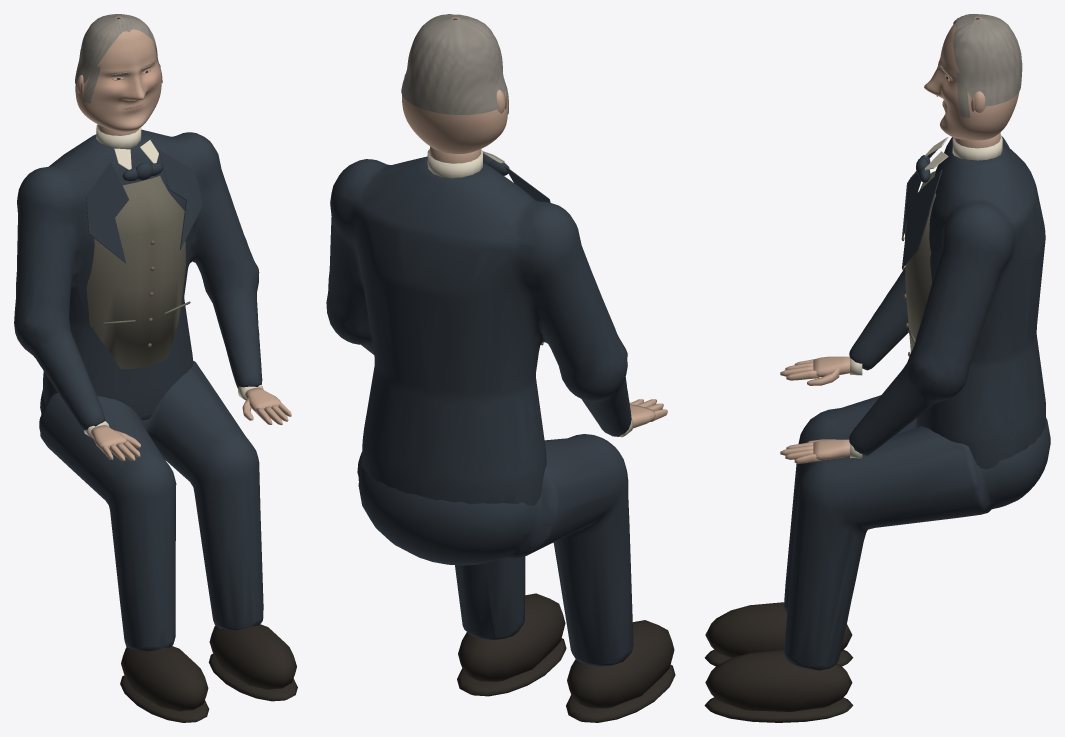
File: workhouse-characters.glb
The picture shows the model from 3 angles, left to right: view 1: azimuth 30°, elevation 25°; view 2: azimuth 150°, elevation 25°; view 3: azimuth 270°, elevation 25°; orthographic projection. The views are drawn at different scales.
Parts seen in each view (by area): view 1: steward_upper_Coat, steward_root_Coat, steward_upper_Waistcoat, steward_root_Boot, steward_head_Skin, steward_upper_Skin, steward_head_Hair, steward_upper_Shirt; view 2: steward_upper_Coat, steward_root_Coat, steward_root_Boot, steward_head_Hair, steward_head_Skin, steward_upper_Skin, steward_upper_Shirt; view 3: steward_upper_Coat, steward_root_Coat, steward_root_Boot, steward_head_Hair, steward_head_Skin, steward_upper_Skin, steward_upper_Waistcoat, steward_upper_Shirt.
Part boxes in pixels (<box>): steward_upper_Coat: <box>14,129,262,430</box>; steward_root_Coat: <box>39,360,263,651</box>; steward_upper_Waistcoat: <box>86,176,190,369</box>; steward_root_Boot: <box>120,624,297,722</box>; steward_head_Skin: <box>75,16,161,131</box>; steward_upper_Skin: <box>91,124,291,461</box>; steward_head_Hair: <box>75,14,162,103</box>; steward_upper_Shirt: <box>84,124,263,438</box>; steward_upper_Coat: <box>326,153,631,505</box>; steward_root_Coat: <box>357,434,633,666</box>; steward_root_Boot: <box>457,593,675,722</box>; steward_head_Hair: <box>401,14,508,114</box>; steward_head_Skin: <box>402,17,507,153</box>; steward_upper_Skin: <box>430,146,667,428</box>; steward_upper_Shirt: <box>427,149,633,437</box>; steward_upper_Coat: <box>849,136,1045,469</box>; steward_root_Coat: <box>784,395,1050,670</box>; steward_root_Boot: <box>704,602,853,722</box>; steward_head_Hair: <box>940,14,1022,117</box>; steward_head_Skin: <box>924,16,1019,140</box>; steward_upper_Skin: <box>780,132,1000,463</box>; steward_upper_Waistcoat: <box>905,171,936,352</box>; steward_upper_Shirt: <box>850,135,1002,458</box>.
Size of the model in its own units: 0.6179 by 1.51 by 0.7056.
